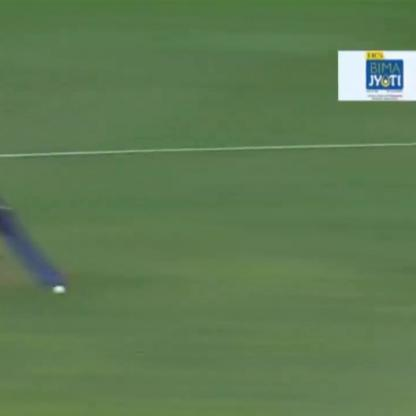ball: (49, 278, 66, 295)
